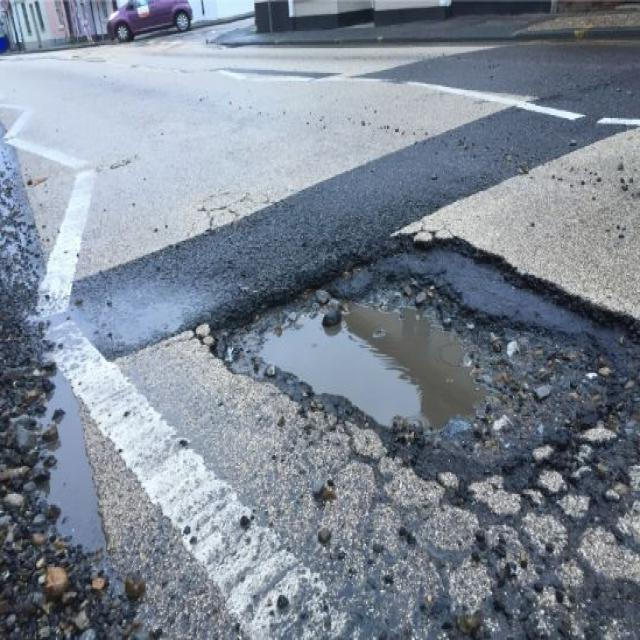Pothole: (195, 219, 640, 486)
